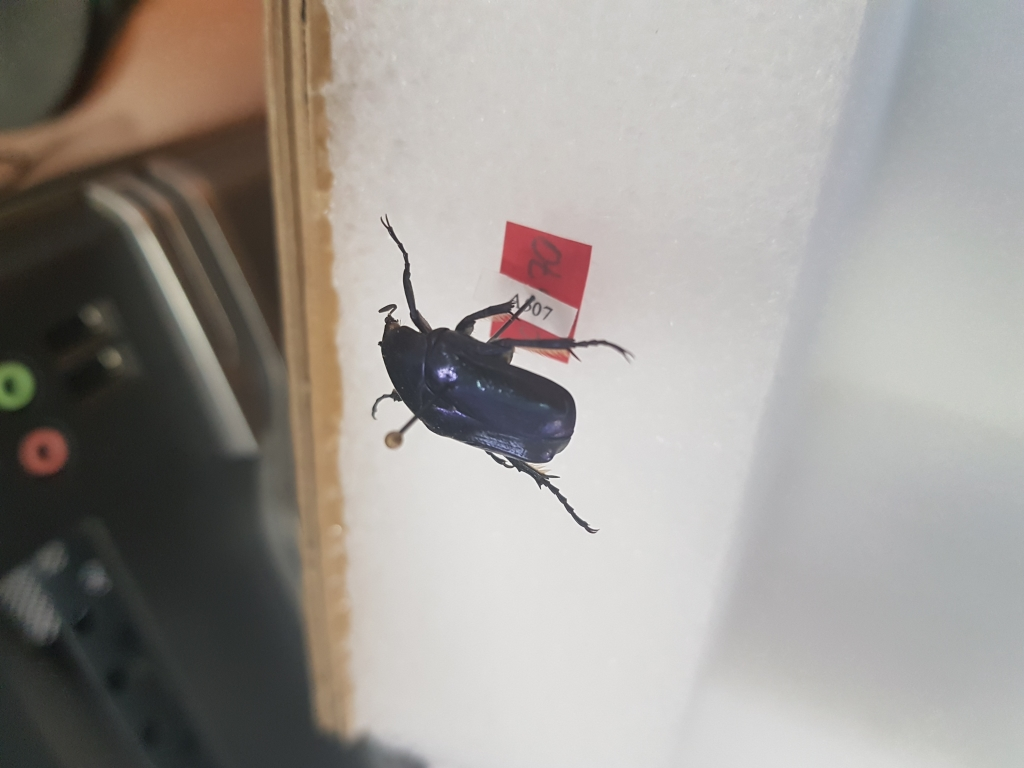Protaetia_besucheti: (358, 207, 613, 537)
